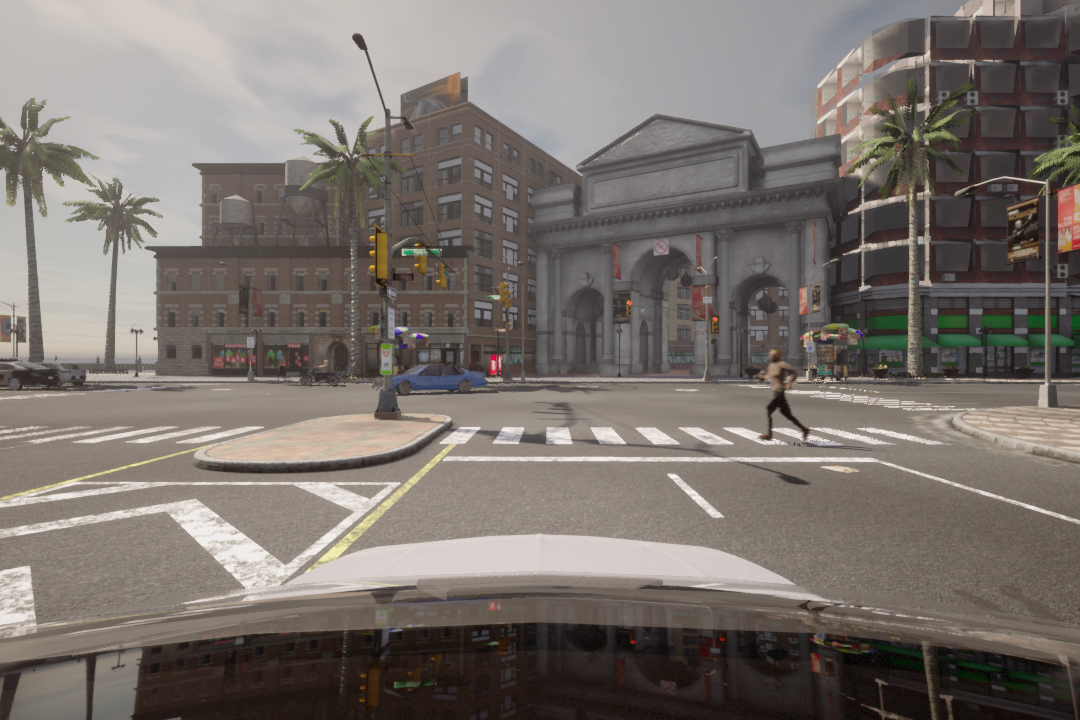TrafficLight: (625, 299, 633, 317), (712, 314, 718, 334)
TrafficSign: (447, 423, 944, 449), (3, 421, 269, 447), (654, 241, 668, 257)
